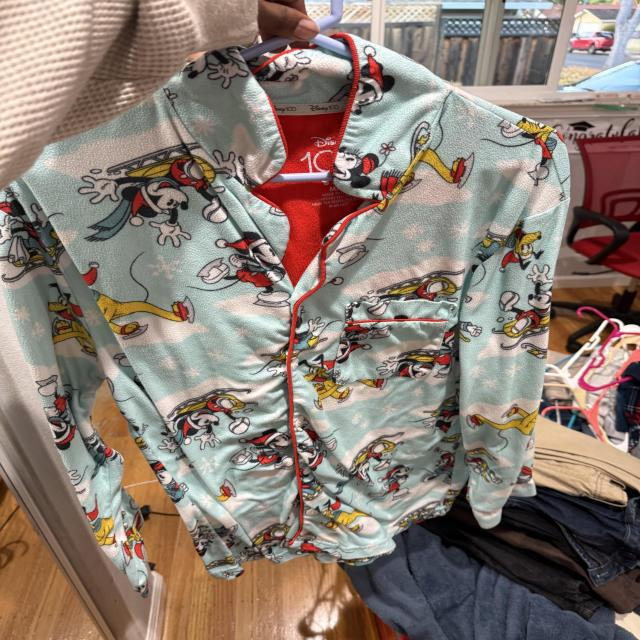back_tag: (296, 134, 372, 212)
